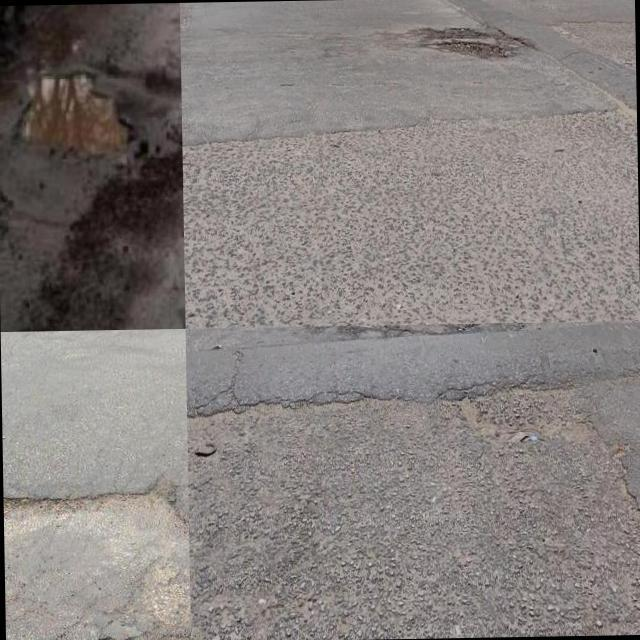Pothole: (11, 71, 136, 165), (416, 24, 517, 61)
